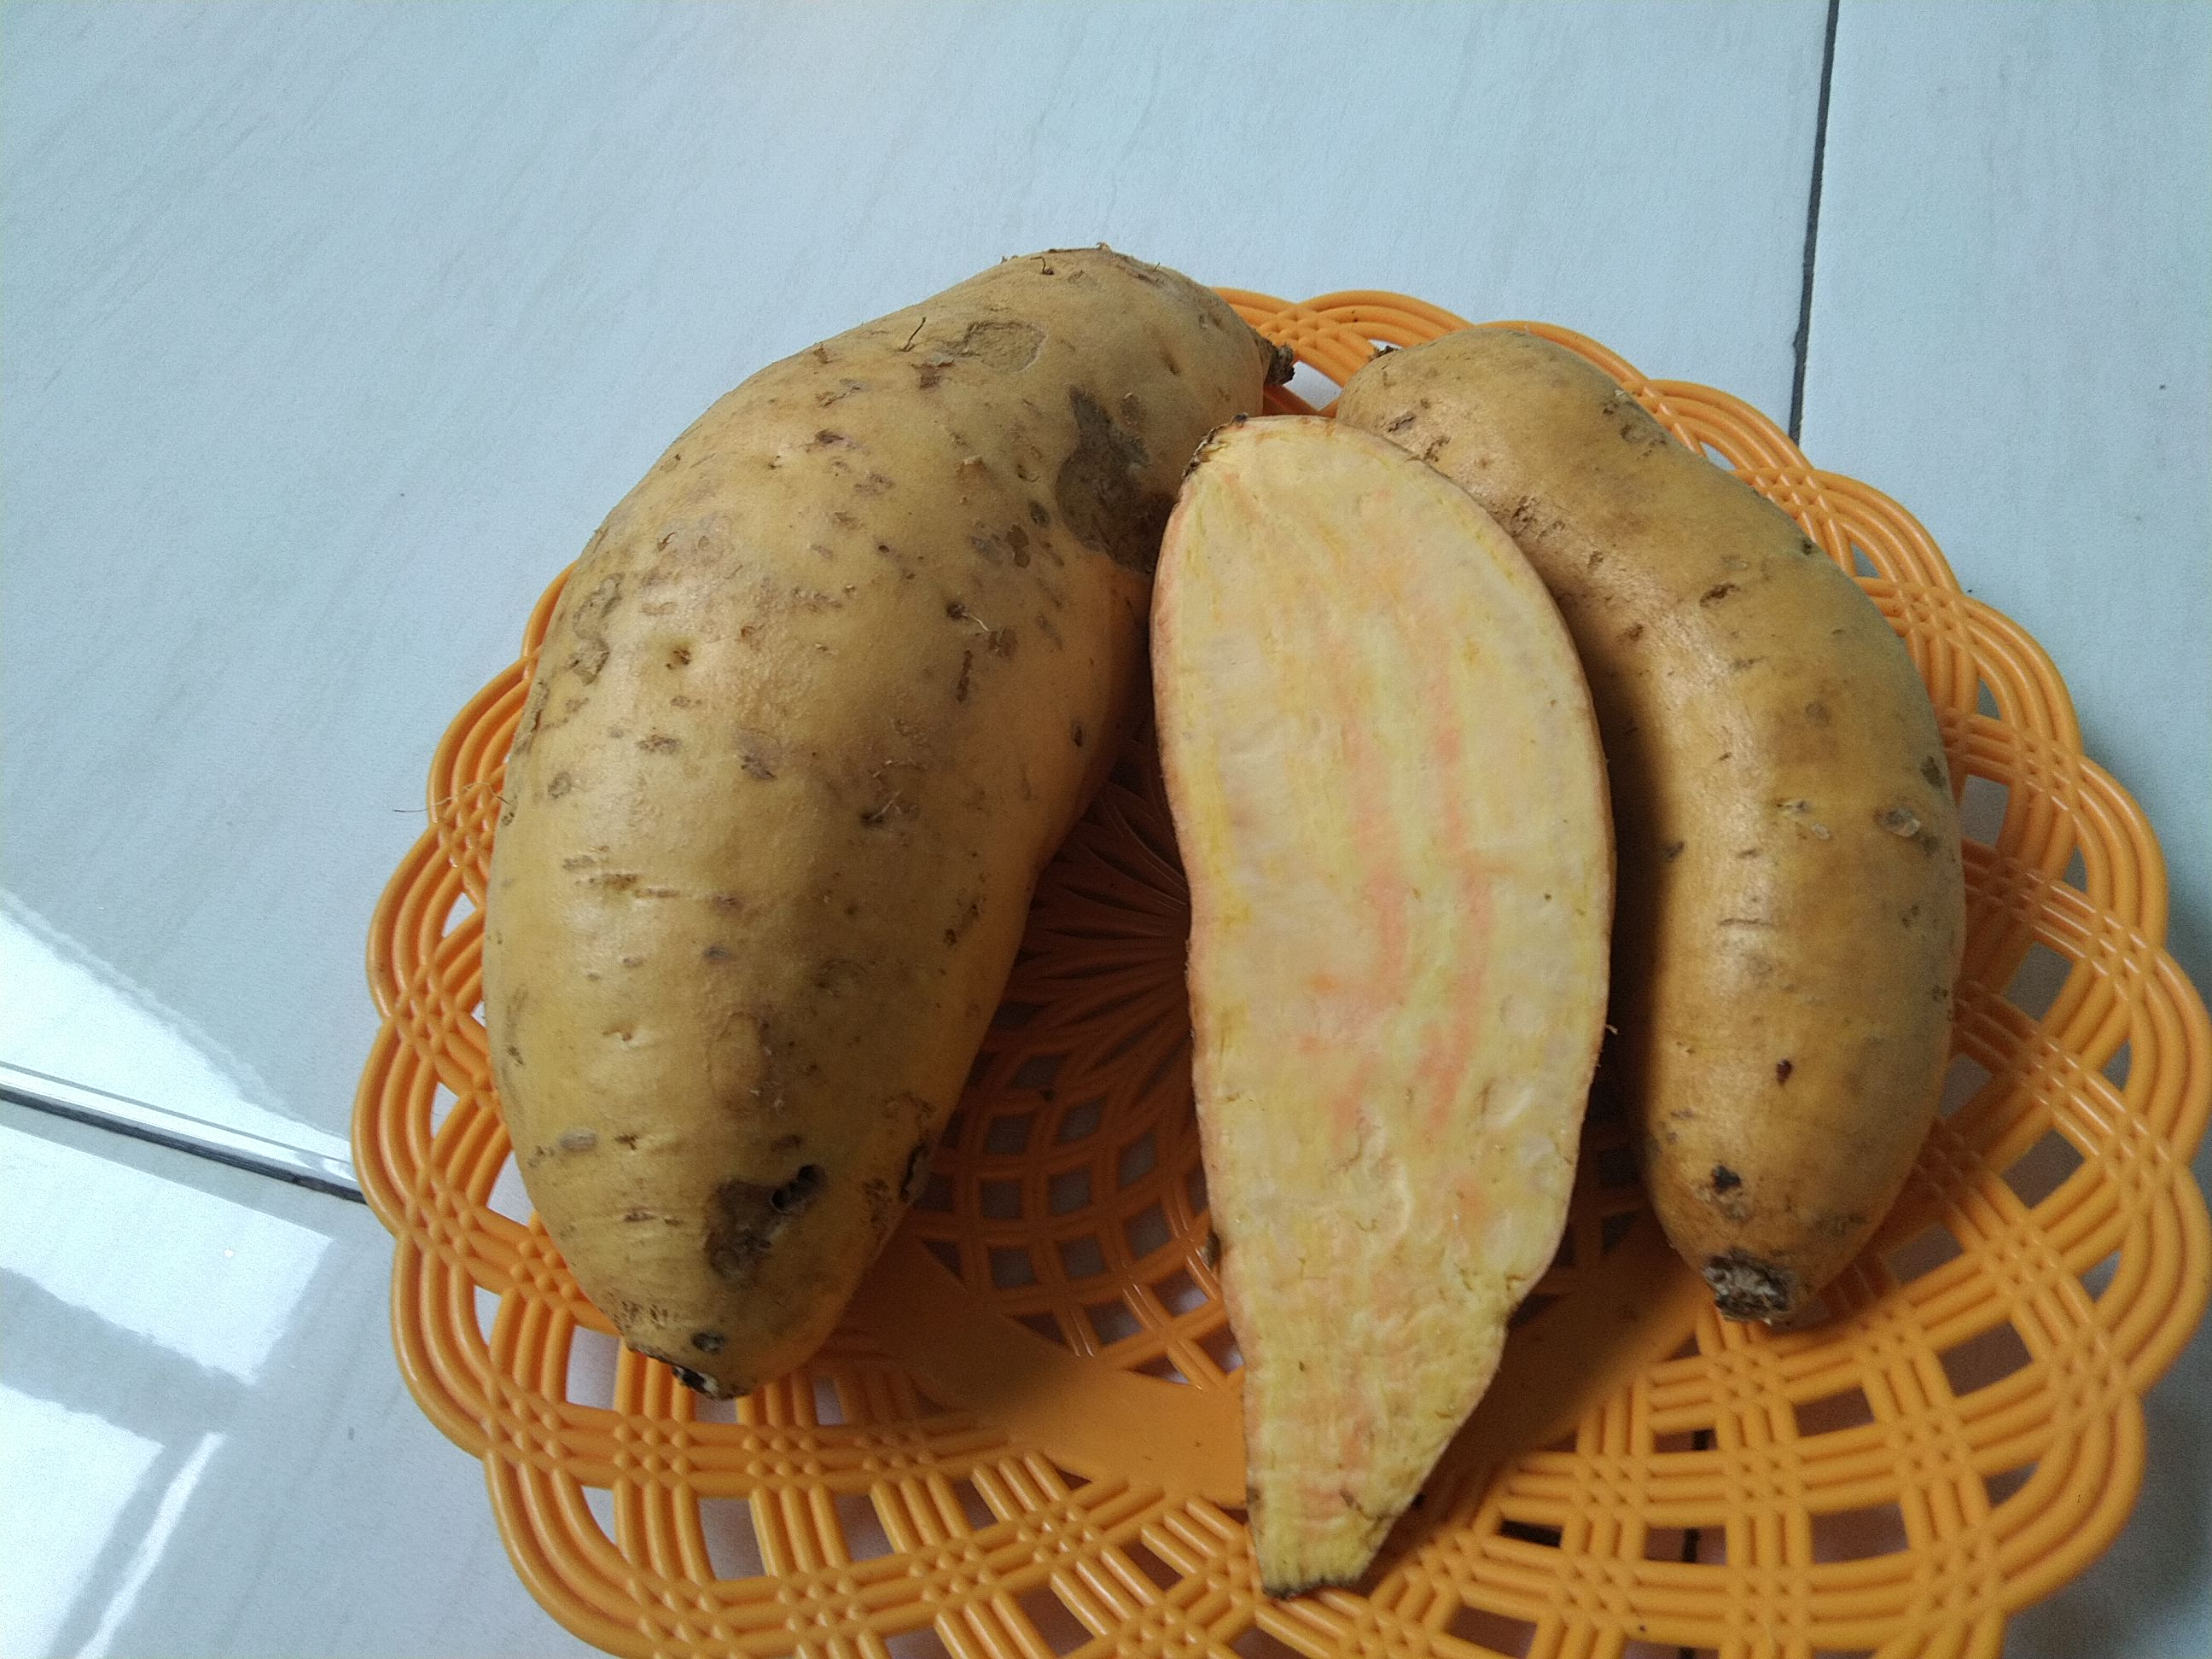ubi cilembu: (475, 240, 1980, 1603), (475, 270, 1305, 1410), (1313, 314, 1991, 1331), (1165, 404, 1632, 1600)
